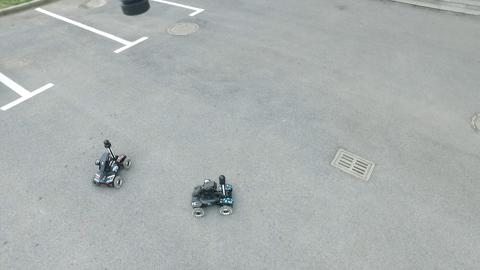chariot: (186, 173, 240, 220), (92, 138, 131, 188)
